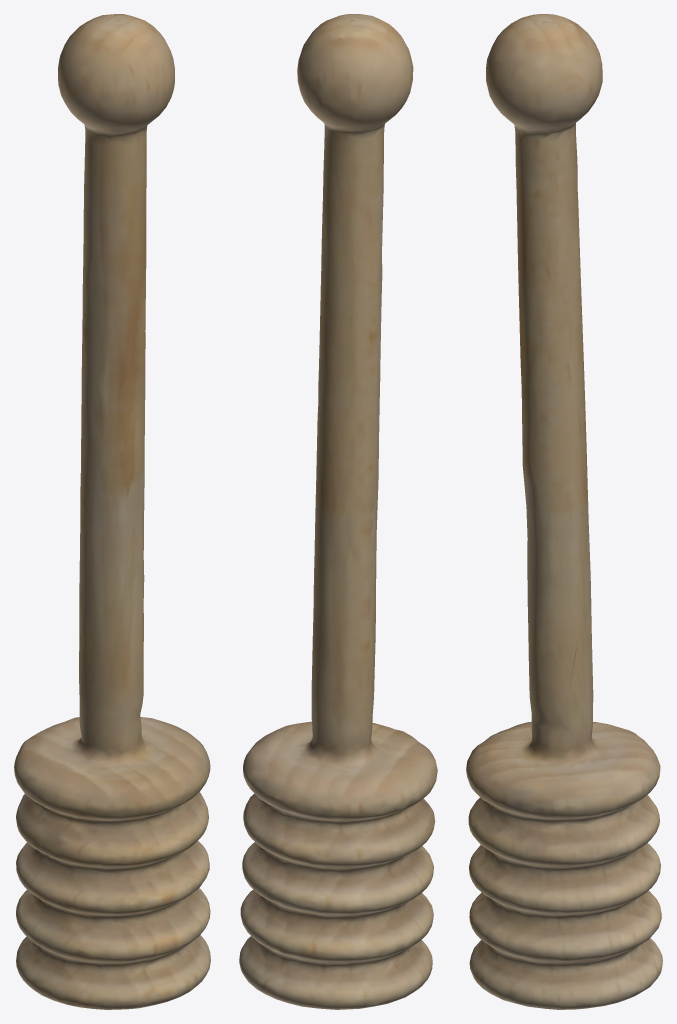
Rendered from Cole_Hardware_Mini_Honey_Dipper.glb.
The picture shows the model from 3 angles, left to right: view 1: azimuth 30°, elevation 25°; view 2: azimuth 150°, elevation 25°; view 3: azimuth 270°, elevation 25°; orthographic projection.
Parts seen in each view (by area): view 1: Cole_Hardware_Mini_Honey_Dipper; view 2: Cole_Hardware_Mini_Honey_Dipper; view 3: Cole_Hardware_Mini_Honey_Dipper.
Part boxes in pixels (bbox=[...]): Cole_Hardware_Mini_Honey_Dipper: bbox=[14, 14, 210, 1009]; Cole_Hardware_Mini_Honey_Dipper: bbox=[239, 14, 437, 1009]; Cole_Hardware_Mini_Honey_Dipper: bbox=[466, 14, 662, 1009].
Bounding box in the file's own units: 0.0208 × 0.1105 × 0.0207.
Materials: 1 (1 with a texture image).
